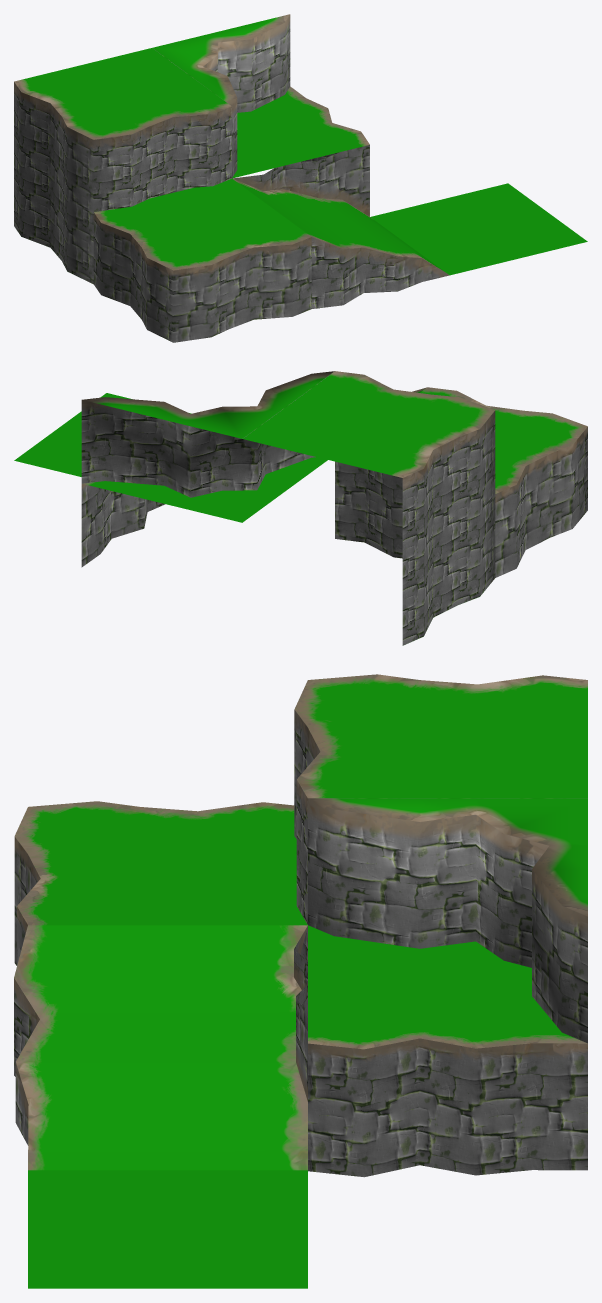
Rendered from Map.fbx.
The picture shows the model from 3 angles, top to bottom: view 1: azimuth 30°, elevation 25°; view 2: azimuth 150°, elevation 25°; view 3: azimuth 270°, elevation 25°; orthographic projection. The views are drawn at different scales.
Visible parts, largest first — view 1: LM_Cliff_OuterCorner_2, LM_Cliff_OuterCorner_1, LM_CliffRamp_Straight, LM_Base, LM_Cliff_InnerCorner_1, LM_Cliff_Straight_1; view 2: LM_Cliff_OuterCorner_2, LM_Cliff_InnerCorner_1, LM_Cliff_OuterCorner_1, LM_Cliff_Straight_1, LM_Base; view 3: LM_CliffRamp_Straight, LM_Cliff_Straight_1, LM_Cliff_InnerCorner_1, LM_Cliff_OuterCorner_2, LM_Cliff_OuterCorner_1, LM_Base.
Boxes of the visible parts, x1=… form: LM_Cliff_OuterCorner_2: x1=14, y1=48, x2=231, y2=284; LM_Cliff_OuterCorner_1: x1=93, y1=178, x2=311, y2=342; LM_CliffRamp_Straight: x1=232, y1=145, x2=449, y2=308; LM_Base: x1=370, y1=183, x2=587, y2=275; LM_Cliff_InnerCorner_1: x1=152, y1=14, x2=290, y2=177; LM_Cliff_Straight_1: x1=232, y1=86, x2=369, y2=178; LM_Cliff_OuterCorner_2: x1=242, y1=371, x2=495, y2=645; LM_Cliff_InnerCorner_1: x1=81, y1=371, x2=334, y2=497; LM_Cliff_OuterCorner_1: x1=420, y1=387, x2=587, y2=577; LM_Cliff_Straight_1: x1=81, y1=457, x2=327, y2=567; LM_Base: x1=14, y1=393, x2=191, y2=476; LM_CliffRamp_Straight: x1=14, y1=925, x2=307, y2=1170; LM_Cliff_Straight_1: x1=308, y1=925, x2=587, y2=1177; LM_Cliff_InnerCorner_1: x1=308, y1=798, x2=587, y2=1043; LM_Cliff_OuterCorner_2: x1=294, y1=674, x2=587, y2=960; LM_Cliff_OuterCorner_1: x1=14, y1=801, x2=307, y2=965; LM_Base: x1=28, y1=1170, x2=307, y2=1288.
Bounding box in the file's own units: 610 × 201 × 410.
6 materials, 6 textured.
